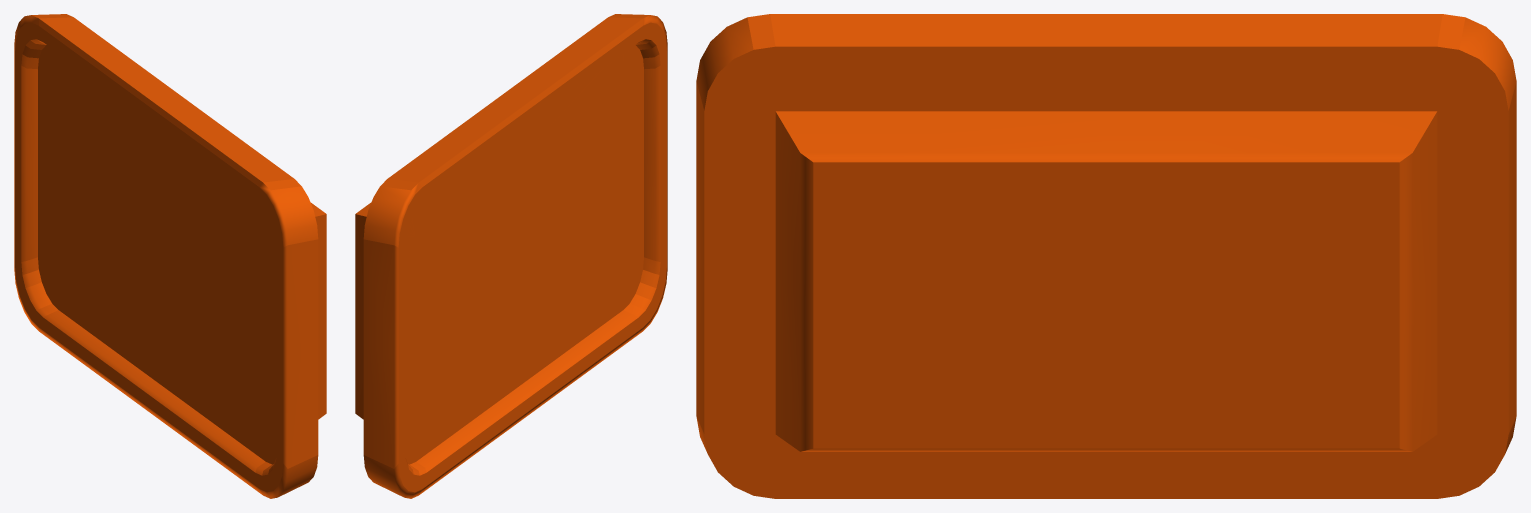
The model's file is Code_Machine_06.fbx.
3 views of the same model, side by side, from view 1: azimuth 30°, elevation 25°; view 2: azimuth 150°, elevation 25°; view 3: azimuth 270°, elevation 25° (orthographic). The views are drawn at different scales.
Parts seen in each view (by area): view 1: Code_Machine_06; view 2: Code_Machine_06; view 3: Code_Machine_06.
Part boxes in pixels (left/top/right/bottom): Code_Machine_06: left=14, top=14, right=326, bottom=498; Code_Machine_06: left=355, top=14, right=667, bottom=498; Code_Machine_06: left=696, top=14, right=1516, bottom=498.
Bounding box in the file's own units: 3.67 × 13.79 × 21.84.
